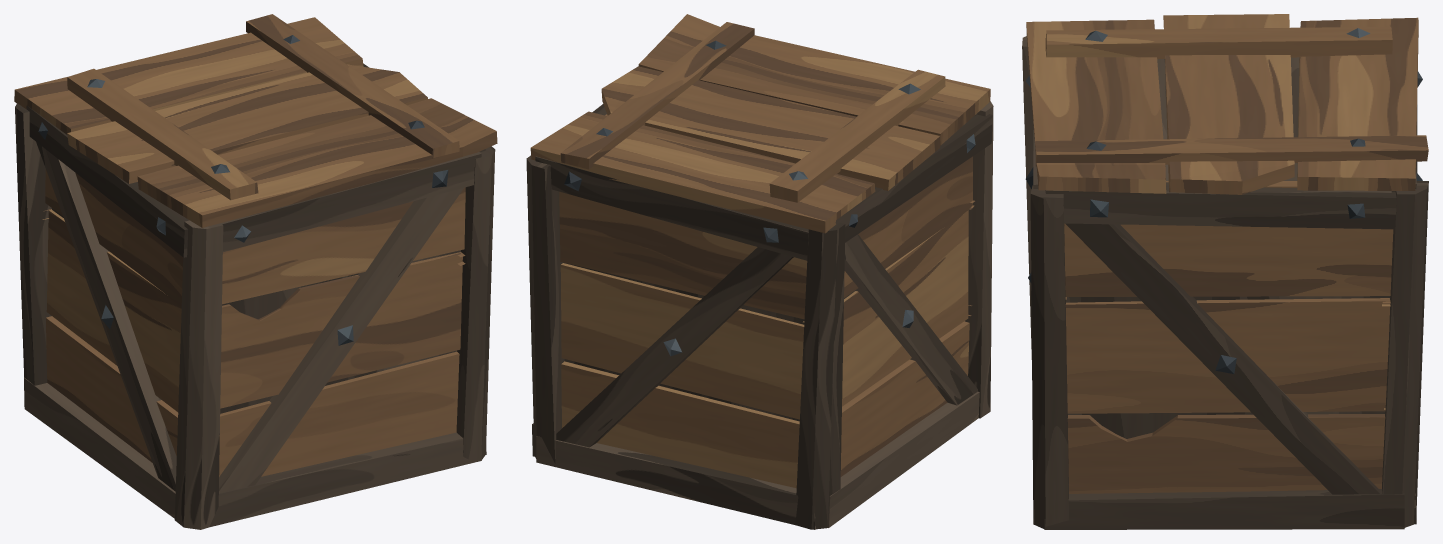
The model's file is SM_WoodenCrate.fbx.
3 renders of one model, left to right at view 1: azimuth 30°, elevation 25°; view 2: azimuth 150°, elevation 25°; view 3: azimuth 270°, elevation 25°, orthographic. The views are drawn at different scales.
Visible parts, largest first — view 1: SM_WoodenCrate; view 2: SM_WoodenCrate; view 3: SM_WoodenCrate.
Boxes of the visible parts, box(x1,y1,x2,y2) form: SM_WoodenCrate: box(14, 14, 497, 529); SM_WoodenCrate: box(526, 14, 993, 529); SM_WoodenCrate: box(1022, 14, 1428, 529).
Bounding box in the file's own units: 0.6937 × 0.6935 × 0.694.
